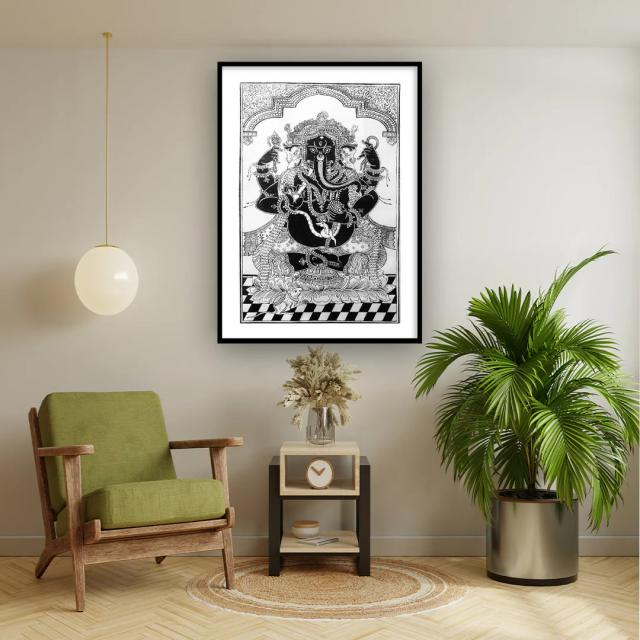painting: (220, 61, 422, 342)
